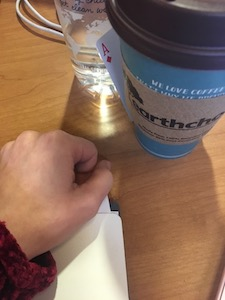AceOfDiamonds: (90, 25, 136, 126)
